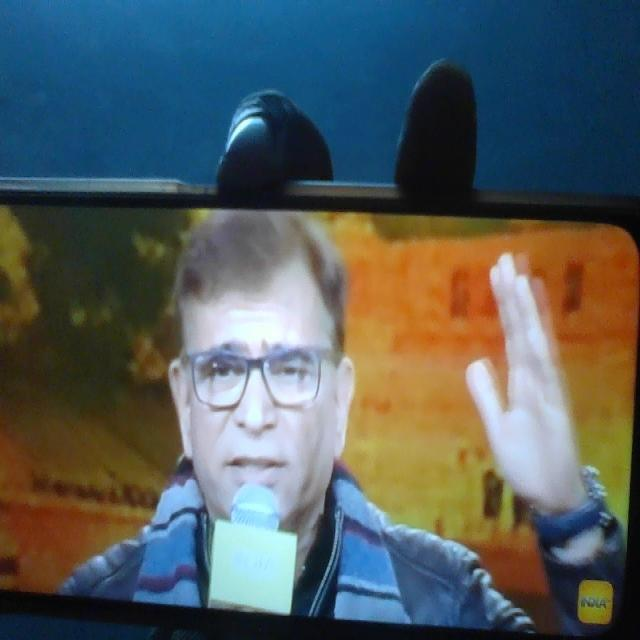fake: (161, 185, 362, 566)
